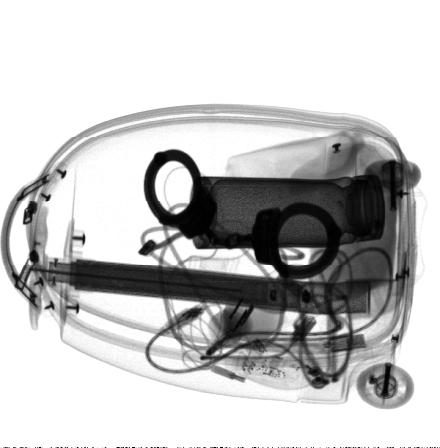HandCuffs: (144, 147, 343, 282)
